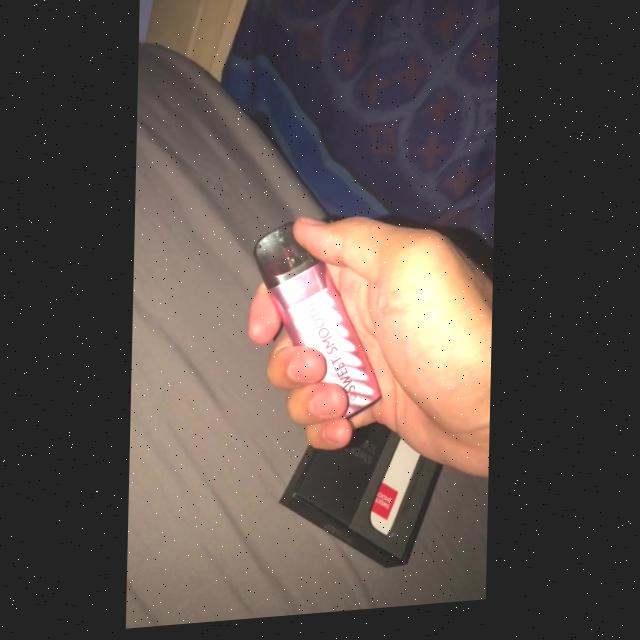vape: (251, 218, 387, 428)
